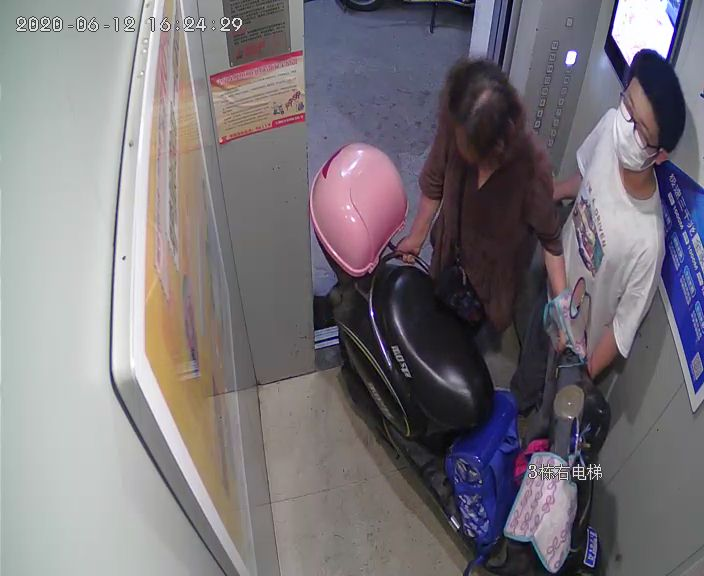Electric-bicycle: (310, 146, 609, 574)
